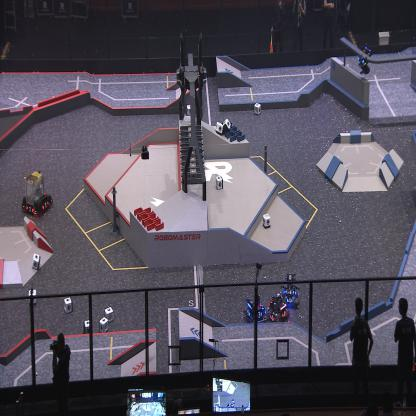car: (22, 171, 51, 218), (265, 293, 290, 323), (245, 292, 267, 324), (282, 273, 300, 306)
